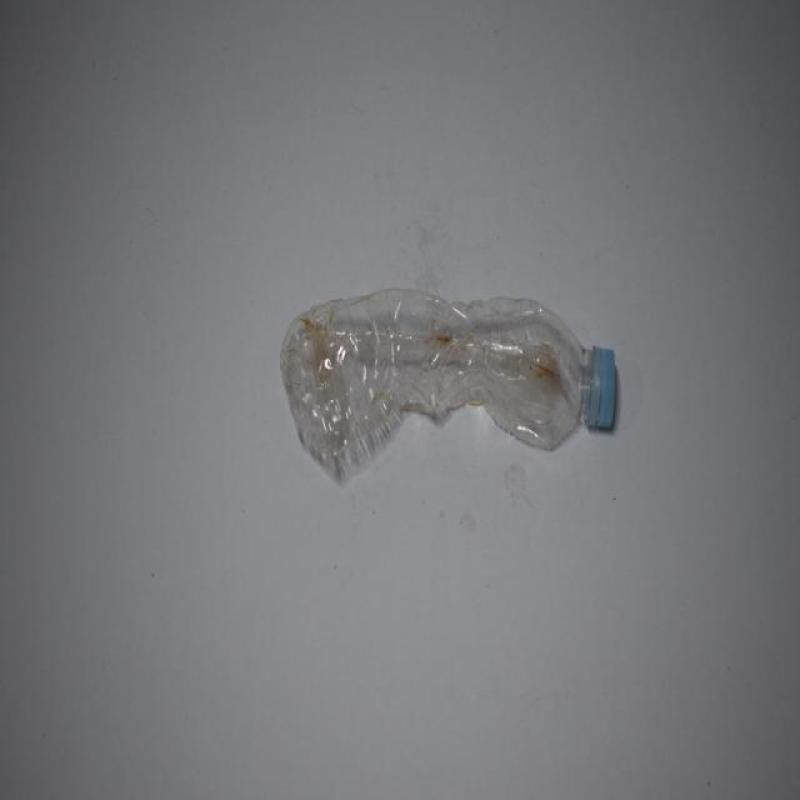botella: (282, 272, 620, 482)
